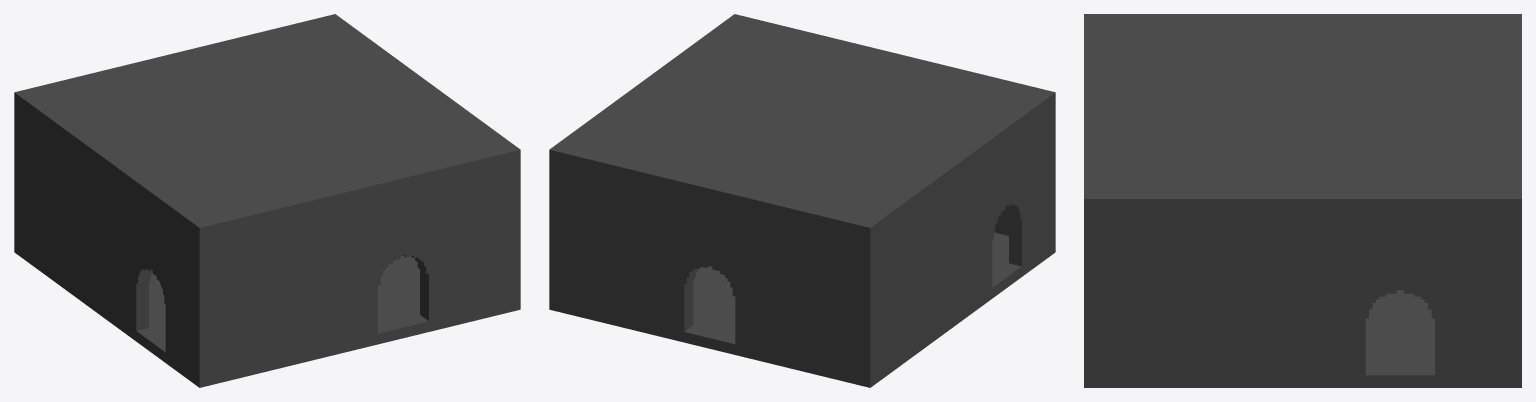
Rendered from Area4.obj.
3 views of the same model, side by side, from view 1: azimuth 30°, elevation 25°; view 2: azimuth 150°, elevation 25°; view 3: azimuth 270°, elevation 25° (orthographic). The views are drawn at different scales.
Bounding box in the file's own units: 126 × 60 × 126.
1 material, 1 textured.
